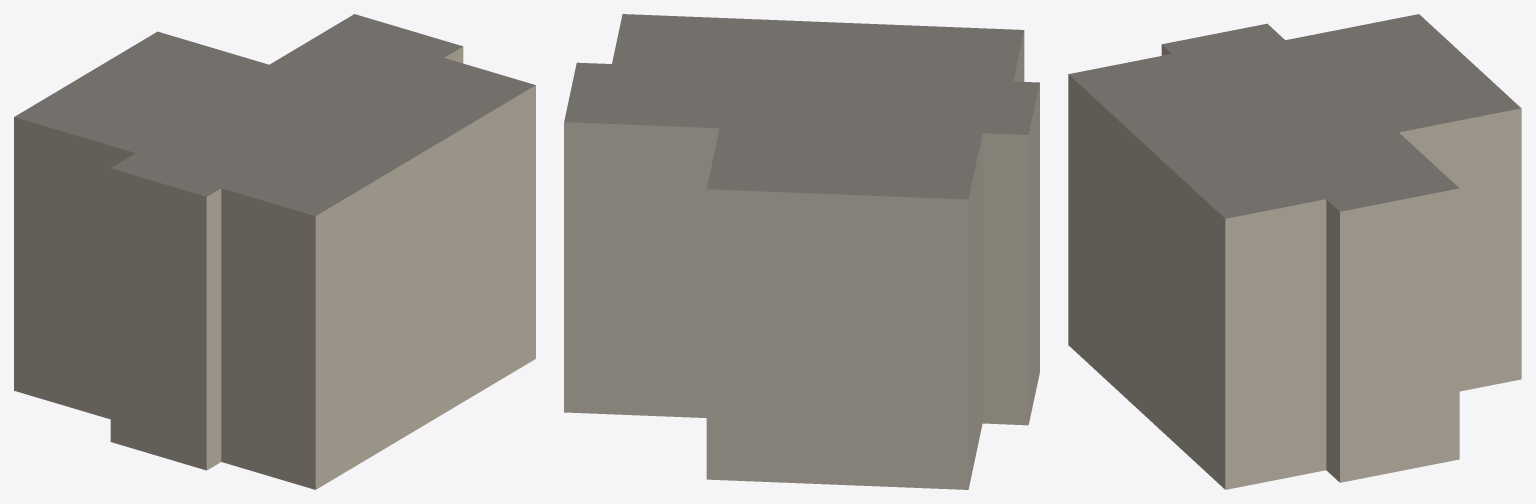
3 views of the same model, side by side, from view 1: azimuth 30°, elevation 25°; view 2: azimuth 150°, elevation 25°; view 3: azimuth 270°, elevation 25° (orthographic). The views are drawn at different scales.
Parts seen in each view (by area): view 1: HP-w369237947; view 2: HP-w369237947; view 3: HP-w369237947.
Part boxes in pixels (x1=…): HP-w369237947: x1=14, y1=14, x2=535, y2=489; HP-w369237947: x1=564, y1=14, x2=1039, y2=489; HP-w369237947: x1=1068, y1=14, x2=1521, y2=489.
Size of the model in its own units: 29.18 by 18 by 27.26.
